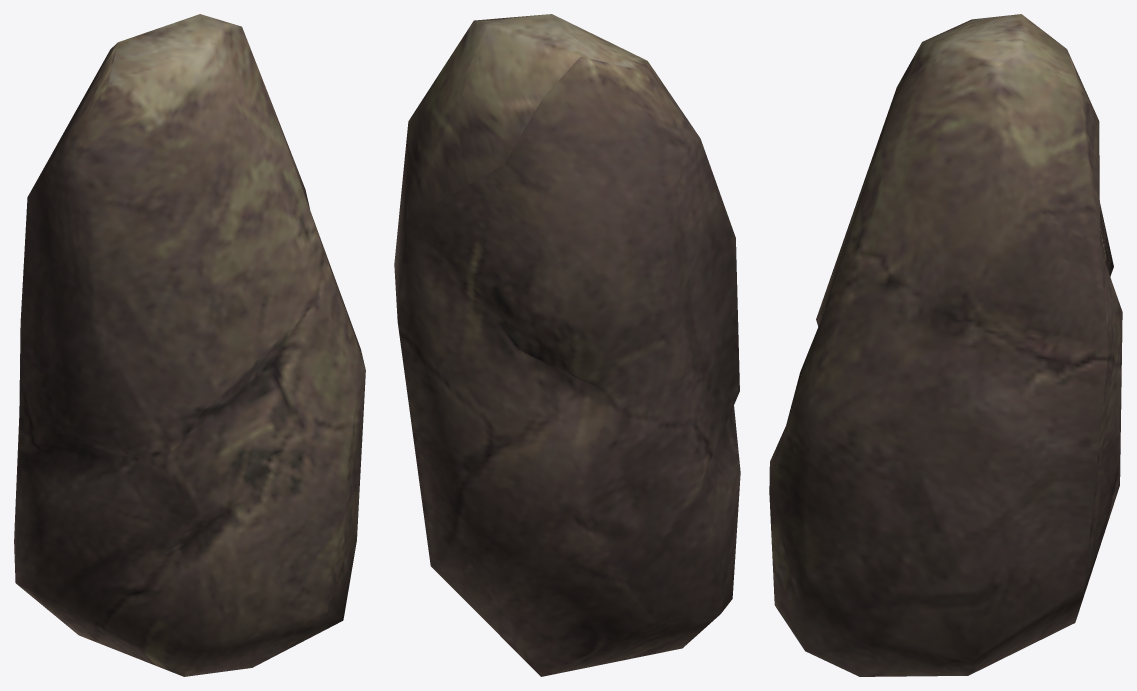
File: stone_004.FBX
3 renders of one model, left to right at view 1: azimuth 30°, elevation 25°; view 2: azimuth 150°, elevation 25°; view 3: azimuth 270°, elevation 25°, orthographic. The views are drawn at different scales.
Parts seen in each view (by area): view 1: stone_004_01; view 2: stone_004_01; view 3: stone_004_01.
Boxes of the visible parts, x1=… form: stone_004_01: x1=14, y1=14, x2=365, y2=676; stone_004_01: x1=394, y1=14, x2=740, y2=676; stone_004_01: x1=769, y1=14, x2=1122, y2=676.
Bounding box in the file's own units: 0.8723 × 1.65 × 0.8592.
